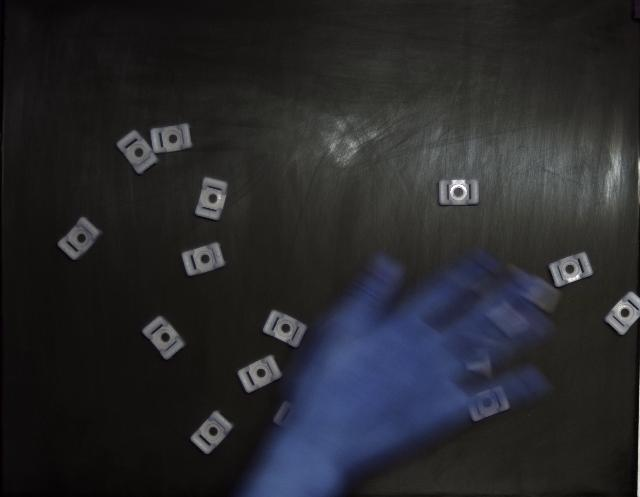first_side: (142, 316, 186, 360), (190, 411, 234, 455), (116, 130, 159, 175), (58, 218, 102, 260), (262, 310, 308, 348), (238, 355, 281, 392), (181, 242, 226, 276), (549, 253, 592, 288), (195, 178, 228, 220), (150, 124, 192, 154), (439, 180, 480, 206)
